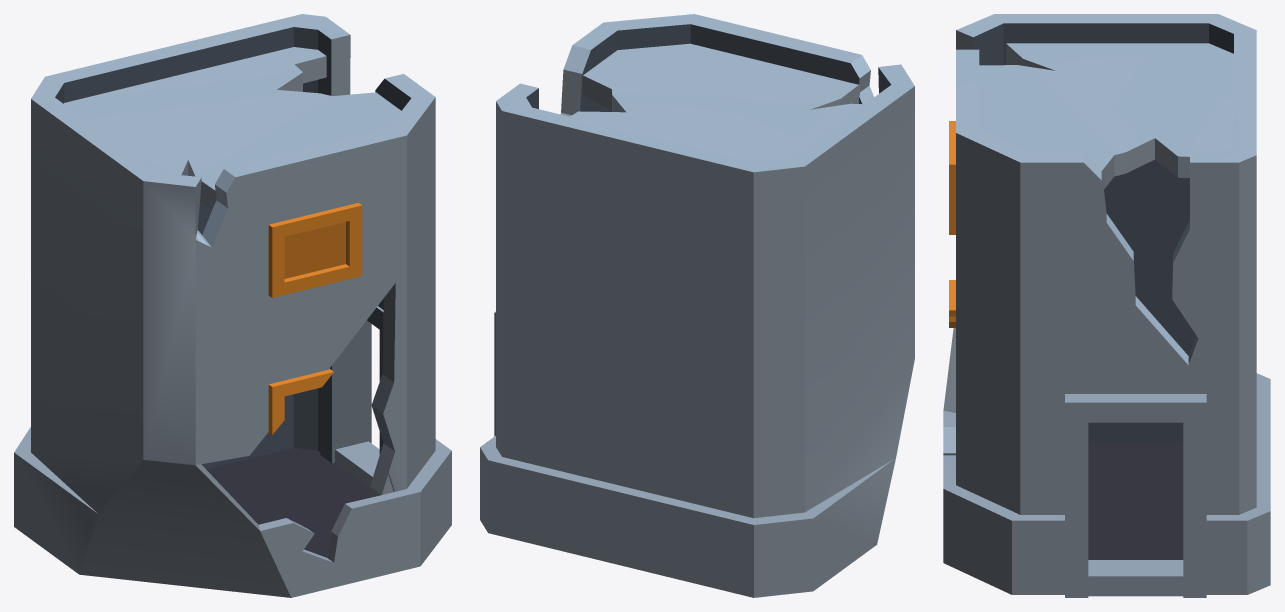
File: square_house_a1.fbx
3 renders of one model, left to right at view 1: azimuth 30°, elevation 25°; view 2: azimuth 150°, elevation 25°; view 3: azimuth 270°, elevation 25°, orthographic. The views are drawn at different scales.
Visible parts, largest first — view 1: square_house_a1; view 2: square_house_a1; view 3: square_house_a1.
Boxes of the visible parts, bbox=[...] form: square_house_a1: bbox=[14, 14, 451, 597]; square_house_a1: bbox=[480, 14, 914, 597]; square_house_a1: bbox=[943, 14, 1270, 597].
Bounding box in the file's own units: 373 × 454 × 316.
